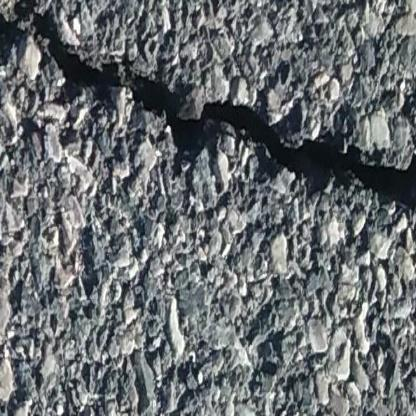Cracks: (0, 2, 416, 212)
